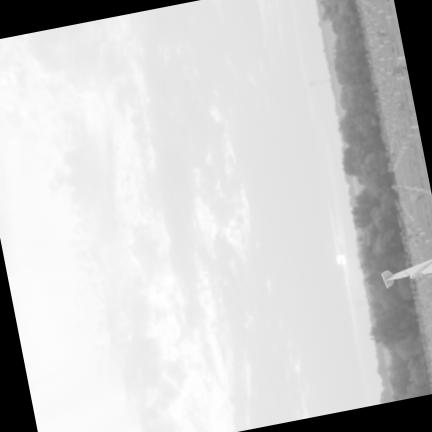Shahed: (381, 257, 432, 287)
